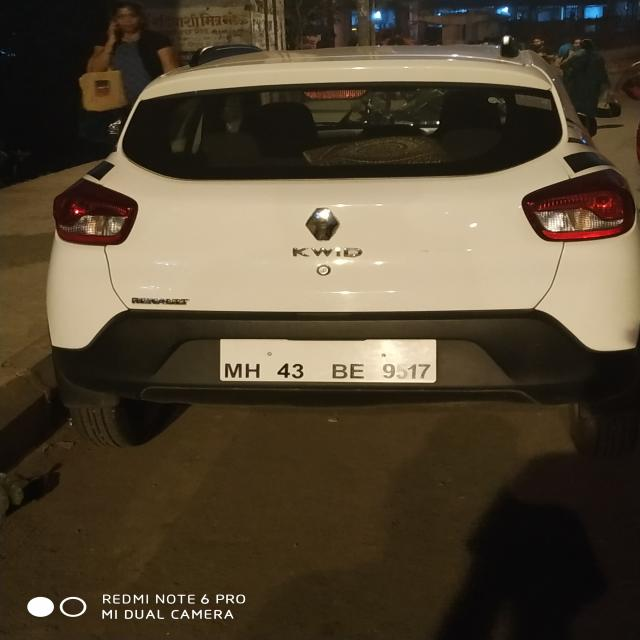Number-Plate: (220, 340, 440, 385)
